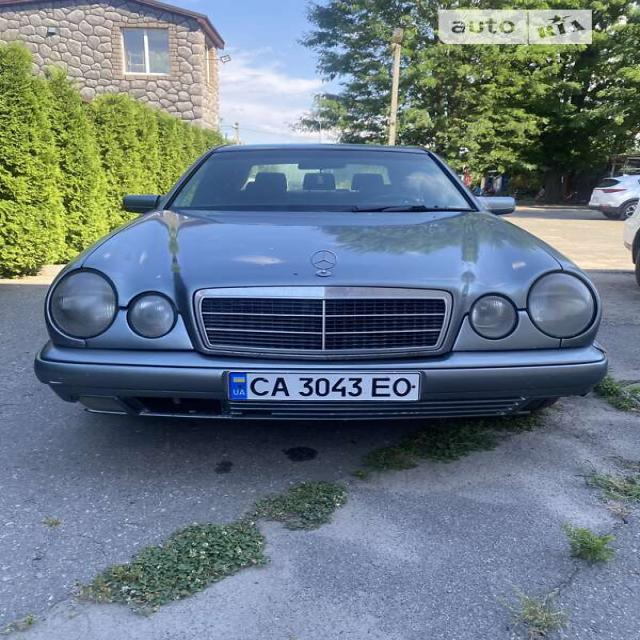plate: (220, 362, 429, 412)
